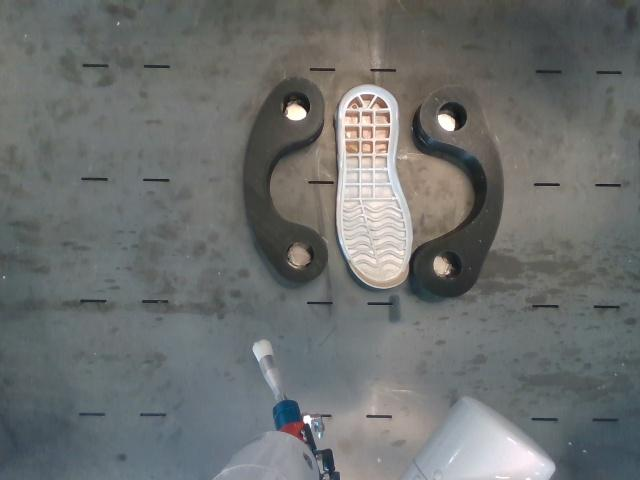shoes: (337, 85, 412, 288)
